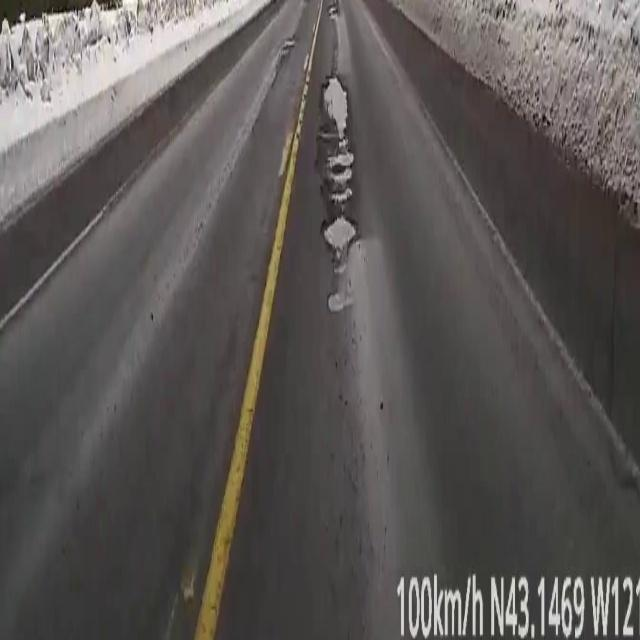pothole: (318, 71, 355, 312), (330, 0, 340, 18)
